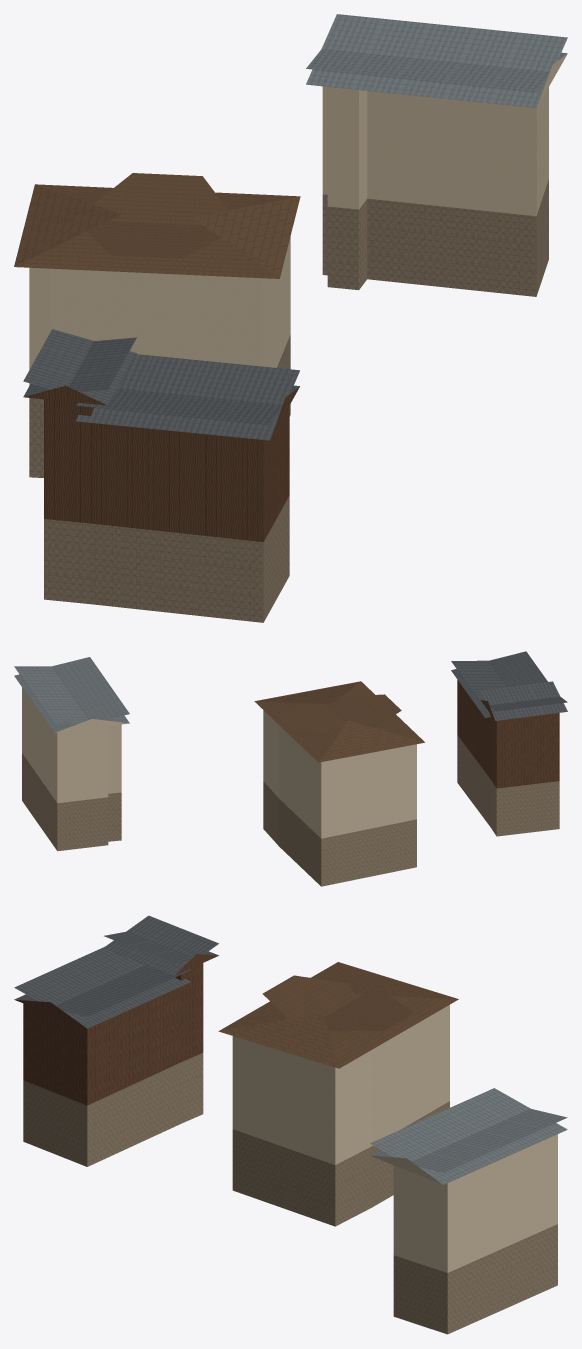
File: bld_c15_26_395.gltf
3 views of the same model, one above another, from view 1: azimuth 30°, elevation 25°; view 2: azimuth 150°, elevation 25°; view 3: azimuth 270°, elevation 25° (orthographic). The views are drawn at different scales.
Parts seen in each view (by area): view 1: bld_c15_26_395; view 2: bld_c15_26_395; view 3: bld_c15_26_395.
Part boxes in pixels (x1,y1,x2,y2): bld_c15_26_395: (14, 14, 567, 622); bld_c15_26_395: (14, 651, 567, 886); bld_c15_26_395: (14, 915, 567, 1334).
Size of the model in its own units: 48.85 by 15.3 by 41.68.
8 materials, 8 textured.
